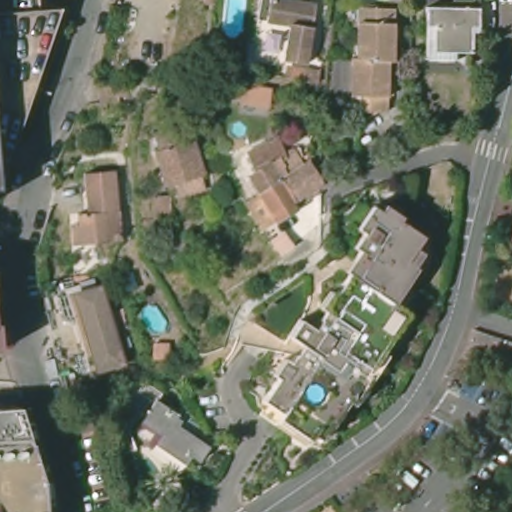pool: (136, 302, 178, 339), (215, 1, 251, 39), (222, 118, 255, 139), (305, 381, 326, 405)
